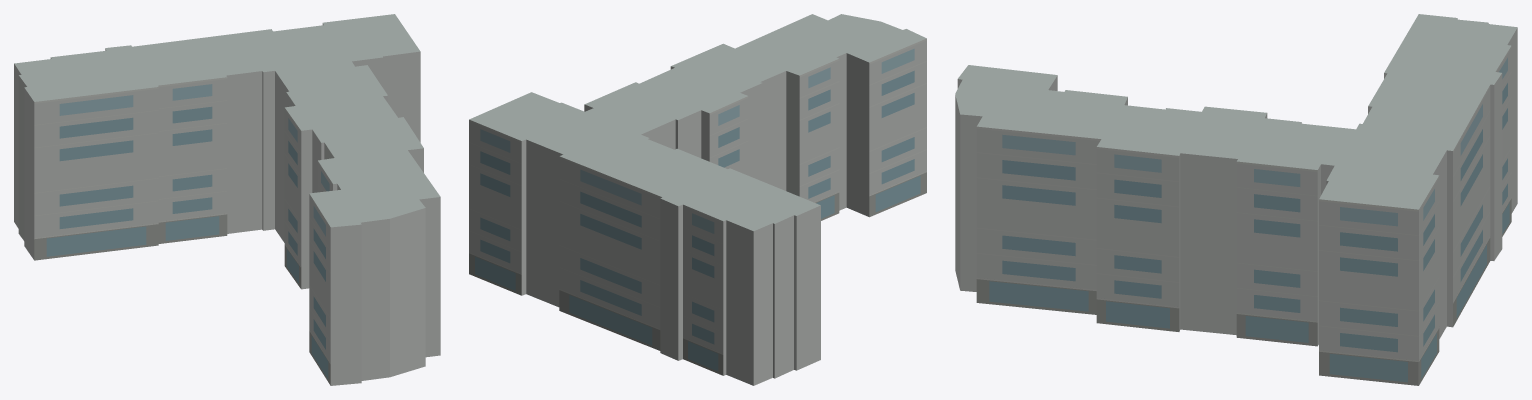
Rendered from survey-upis-32757397.glb.
The picture shows the model from 3 angles, left to right: view 1: azimuth 30°, elevation 25°; view 2: azimuth 150°, elevation 25°; view 3: azimuth 270°, elevation 25°; orthographic projection. The views are drawn at different scales.
Visible parts, largest first — view 1: survey-upis-32757397.tmp; view 2: survey-upis-32757397.tmp; view 3: survey-upis-32757397.tmp.
Part boxes in pixels (x1,y1,x2,y2): survey-upis-32757397.tmp: (14, 14, 440, 385); survey-upis-32757397.tmp: (469, 14, 926, 385); survey-upis-32757397.tmp: (955, 14, 1517, 385).
Size of the model in its own units: 49.17 by 20.65 by 59.73.
